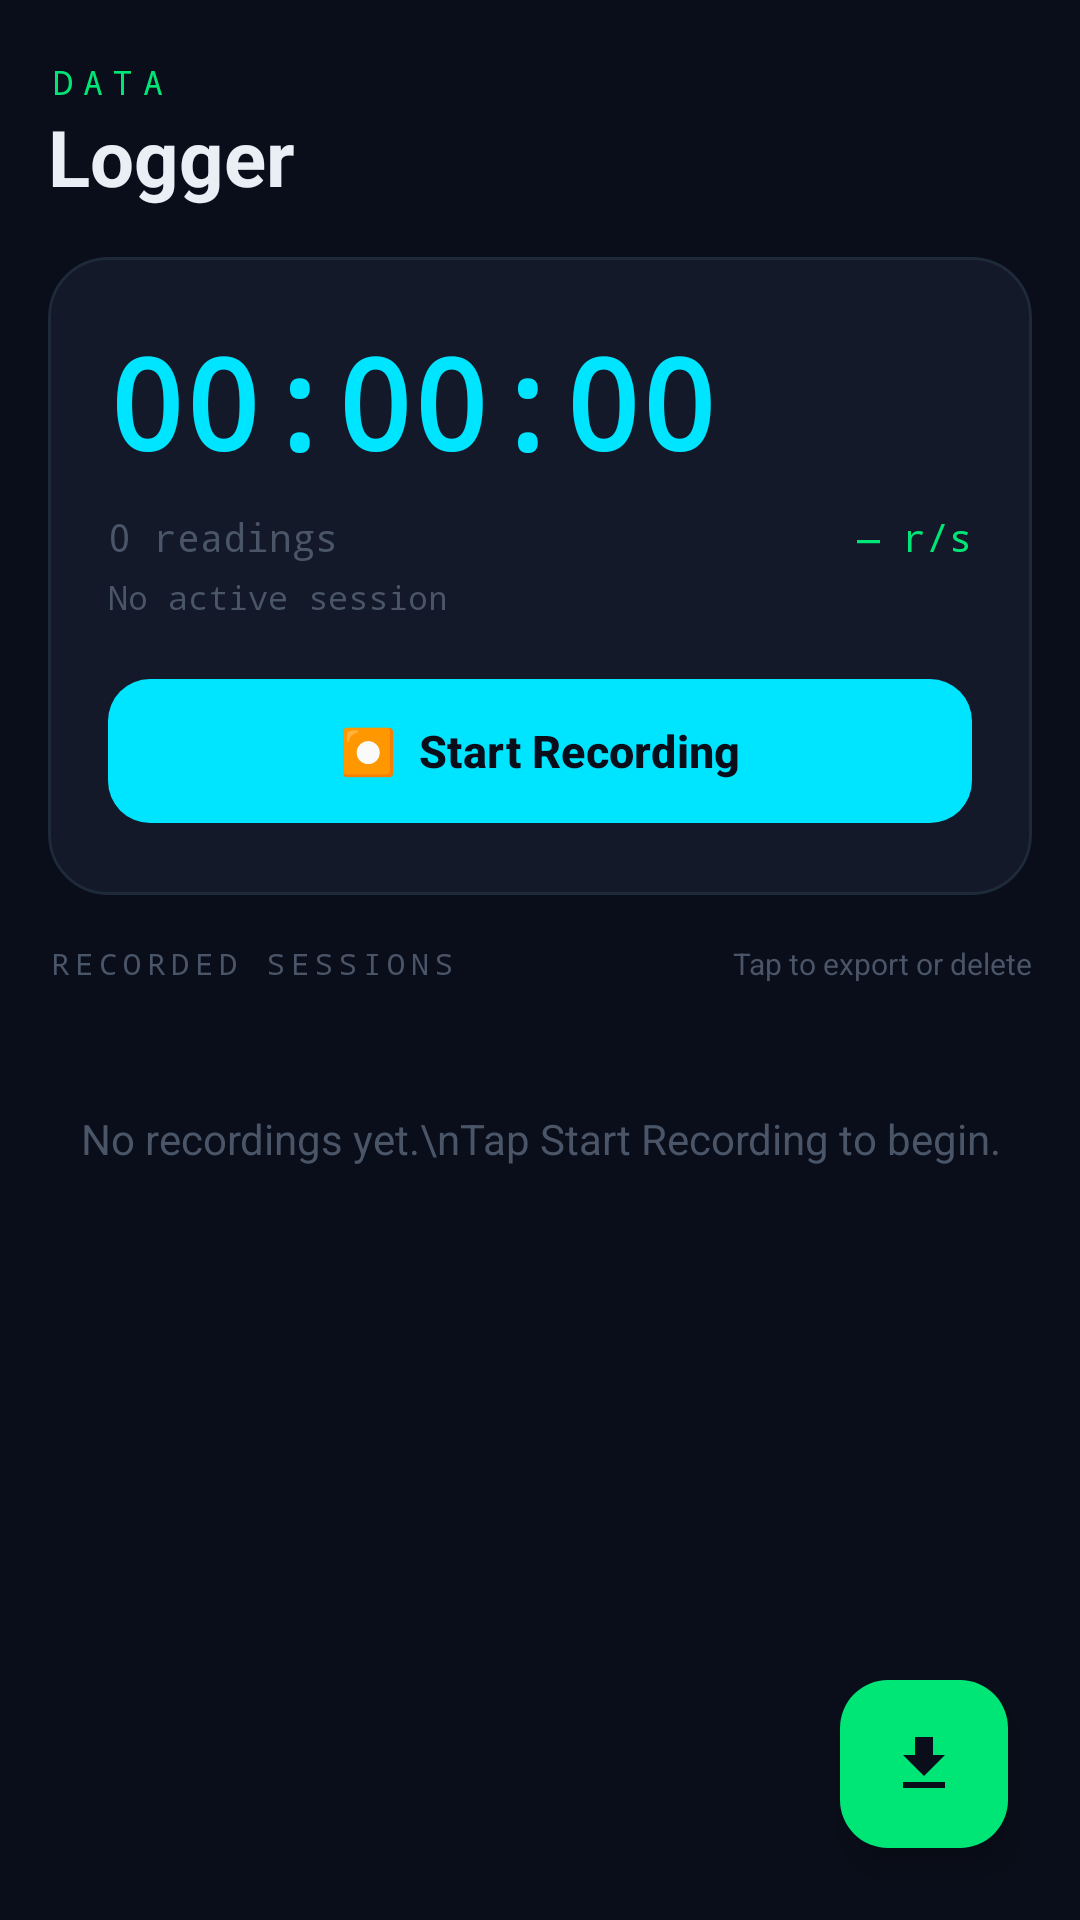

Icons on this 1080w x 1920h Android screen, each with the point to tap as (x,y):
Export CSV: (924,1764)
